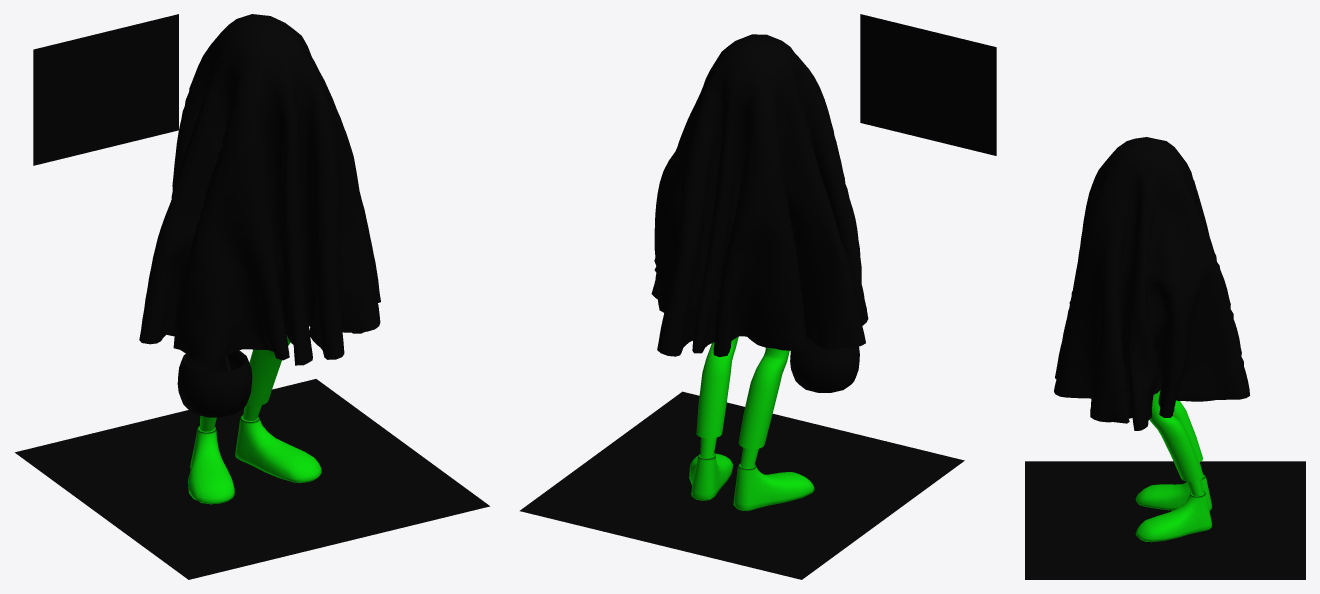
3 views of the same model, side by side, from view 1: azimuth 30°, elevation 25°; view 2: azimuth 150°, elevation 25°; view 3: azimuth 270°, elevation 25° (orthographic). The views are drawn at different scales.
Parts seen in each view (by area): view 1: pDisc8; view 2: pDisc8; view 3: pDisc8.
Boxes of the visible parts, x1,y1,x2,y2 form: pDisc8: [15, 14, 489, 579]; pDisc8: [520, 14, 996, 579]; pDisc8: [1025, 137, 1305, 579].
Size of the model in its own units: 1.3 by 1.6 by 0.9921.
